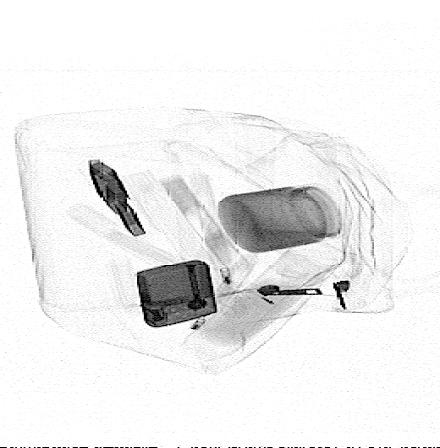Lighter: (137, 259, 218, 328)
